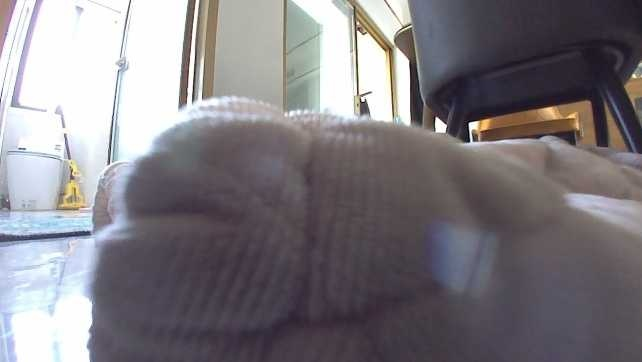toilet: (5, 135, 65, 211)
